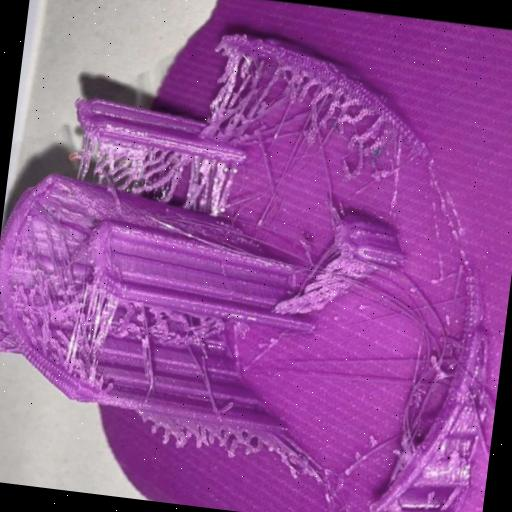stringing: (82, 136, 158, 195), (64, 282, 116, 368), (158, 150, 232, 208), (208, 48, 252, 133), (410, 320, 450, 410), (282, 66, 338, 113), (332, 94, 372, 134)
